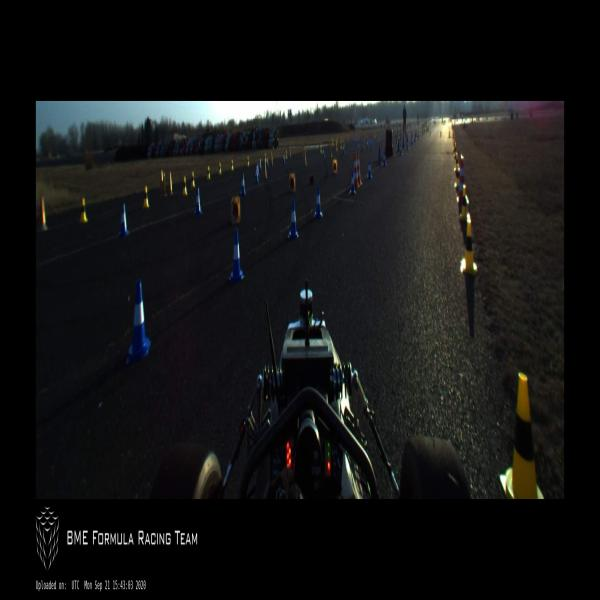blue_cone: (126, 280, 151, 363), (229, 230, 244, 282), (118, 203, 130, 238), (288, 200, 299, 238), (314, 187, 323, 218), (194, 188, 201, 216), (366, 159, 372, 179), (241, 173, 246, 196), (350, 170, 354, 194), (254, 166, 258, 183), (382, 150, 386, 166), (256, 162, 260, 176), (406, 139, 410, 150), (259, 158, 262, 172), (322, 148, 325, 157), (400, 144, 402, 157), (283, 153, 285, 164), (266, 157, 268, 168), (411, 135, 413, 145), (357, 142, 359, 152), (370, 138, 372, 148), (342, 145, 344, 154), (414, 133, 416, 142), (417, 131, 419, 140), (353, 136, 355, 145), (367, 141, 369, 149)
large_orange_cone: (456, 158, 468, 204), (353, 151, 359, 189), (356, 153, 362, 185)
yellow_cone: (499, 374, 545, 498), (460, 215, 478, 274), (459, 184, 468, 221), (80, 198, 88, 224), (143, 186, 149, 209), (454, 154, 460, 172), (455, 166, 460, 187), (183, 176, 188, 196), (191, 170, 196, 188), (230, 158, 234, 171), (454, 142, 457, 158), (207, 166, 210, 180), (218, 162, 221, 175), (247, 156, 249, 167), (343, 138, 345, 148), (303, 146, 305, 156), (285, 150, 287, 159), (320, 145, 322, 154), (340, 140, 342, 148), (448, 131, 450, 139), (336, 143, 337, 151), (440, 130, 441, 136)
